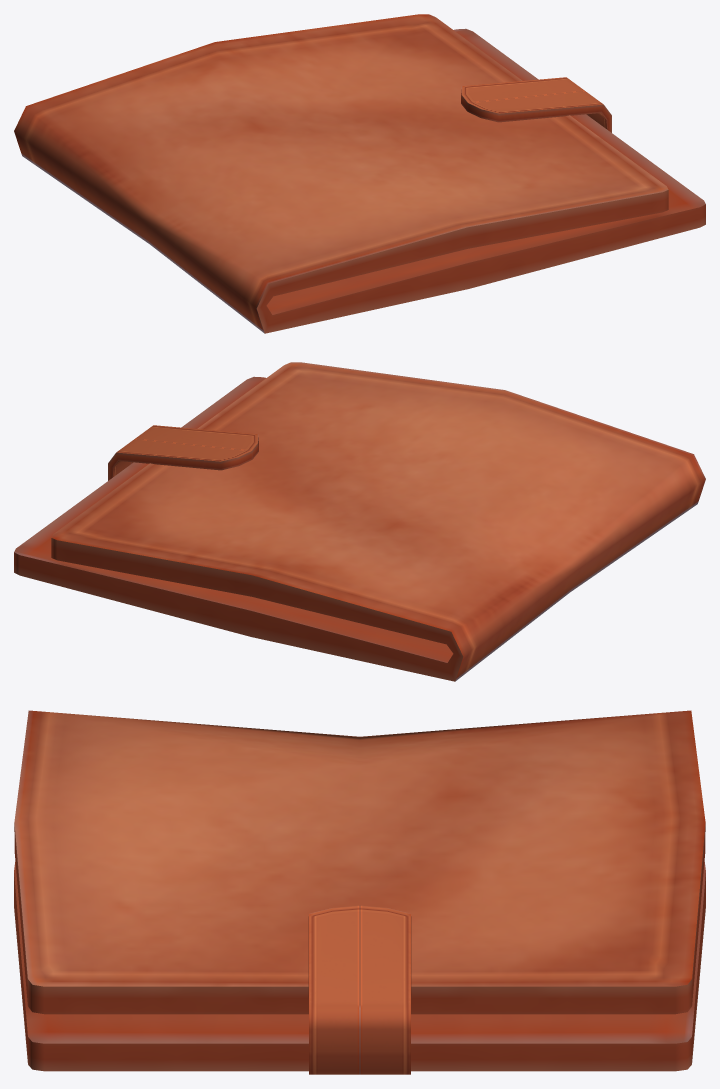
The model's file is TuShuGuan_01_qianbao_01.FBX.
3 views of the same model, one above another, from view 1: azimuth 30°, elevation 25°; view 2: azimuth 150°, elevation 25°; view 3: azimuth 270°, elevation 25° (orthographic). The views are drawn at different scales.
Parts seen in each view (by area): view 1: TuShuGuan_qianbao_01; view 2: TuShuGuan_qianbao_01; view 3: TuShuGuan_qianbao_01.
Part boxes in pixels (box(x1,y1,x2,y2)): TuShuGuan_qianbao_01: box(14, 14, 705, 333); TuShuGuan_qianbao_01: box(14, 362, 705, 681); TuShuGuan_qianbao_01: box(14, 710, 705, 1074).
Bounding box in the file's own units: 61.59 × 8.24 × 59.
